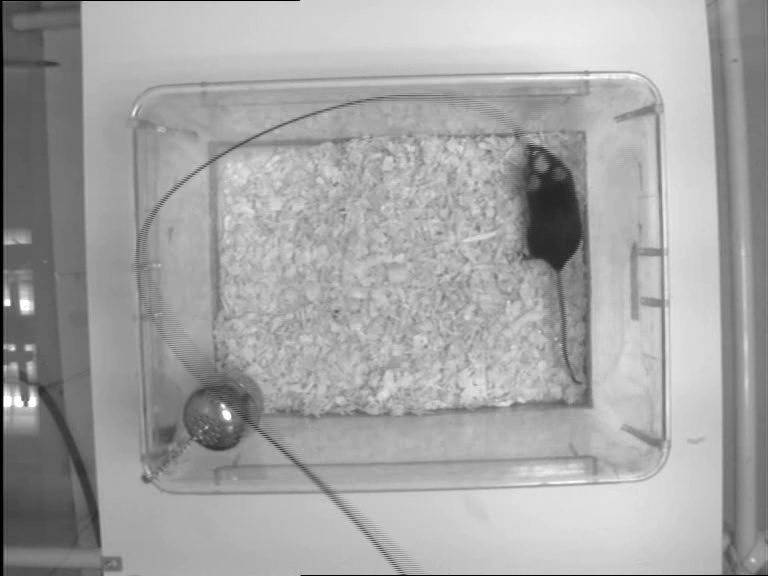mice: (515, 140, 585, 387)
